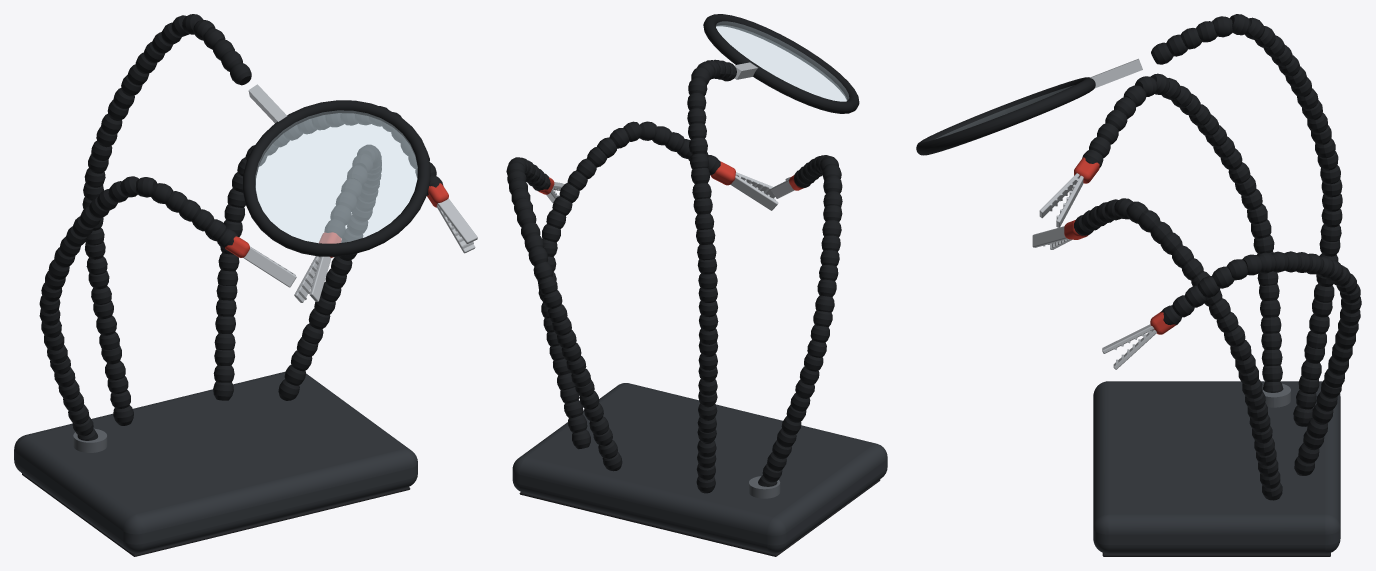
The model's file is helping-hands.glb.
3 views of the same model, side by side, from view 1: azimuth 30°, elevation 25°; view 2: azimuth 150°, elevation 25°; view 3: azimuth 270°, elevation 25° (orthographic). The views are drawn at different scales.
Visible parts, largest first — view 1: hh_base, magnifier_glass, arm_3, arm_1, magnifier_rim, arm_2, arm_4, hh_pad, clip_4, clip_2, clip_1, magnifier_yoke; view 2: hh_base, arm_3, arm_1, arm_4, arm_2, magnifier_rim, magnifier_glass, hh_pad, clip_2, arm_1_socket; view 3: hh_base, arm_3, arm_1, arm_4, arm_2, magnifier_rim, hh_pad, clip_1, clip_4, magnifier_yoke, clip_2.
Boxes of the visible parts, box(x1,y1,x2,y2) form: hh_base: box(14, 371, 417, 553); magnifier_glass: box(255, 110, 417, 243); arm_3: box(82, 14, 251, 425); arm_1: box(39, 176, 238, 440); magnifier_rim: box(242, 100, 430, 256); arm_2: box(278, 144, 381, 400); arm_4: box(213, 106, 443, 400); hh_pad: box(22, 473, 410, 556); clip_4: box(436, 198, 477, 253); clip_2: box(294, 256, 331, 302); clip_1: box(243, 246, 296, 287); magnifier_yoke: box(248, 84, 286, 122); hh_base: box(512, 383, 887, 553); arm_3: box(687, 59, 736, 493); arm_1: box(758, 155, 842, 486); arm_4: box(506, 157, 622, 471); arm_2: box(537, 121, 720, 449); magnifier_rim: box(703, 14, 859, 113); magnifier_glass: box(716, 21, 848, 101); hh_pad: box(519, 479, 880, 556); clip_2: box(730, 172, 778, 210); arm_1_socket: box(749, 476, 780, 498); hh_base: box(1093, 381, 1340, 553); arm_3: box(1151, 14, 1342, 426); arm_1: box(1082, 73, 1283, 392); arm_4: box(1161, 251, 1361, 475); arm_2: box(1074, 198, 1282, 500); magnifier_rim: box(916, 77, 1095, 155); hh_pad: box(1102, 553, 1330, 556); clip_1: box(1039, 173, 1083, 227); clip_4: box(1102, 324, 1156, 369); magnifier_yoke: box(1090, 58, 1142, 88); clip_2: box(1032, 226, 1071, 249).
Bounding box in the file's own units: 0.2243 × 0.2719 × 0.2341.
